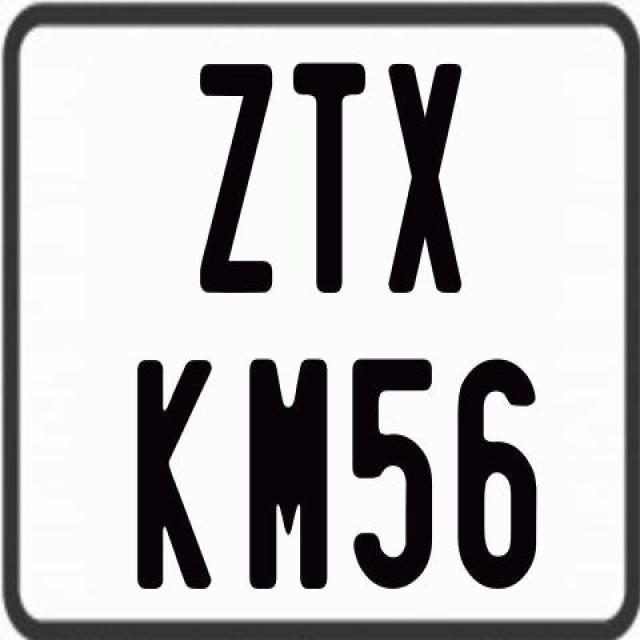5: (352, 355, 438, 587)
6: (456, 354, 538, 588)
K: (135, 355, 217, 589)
M: (246, 355, 326, 592)
T: (291, 61, 365, 295)
X: (385, 61, 463, 293)
Z: (197, 64, 275, 301)
